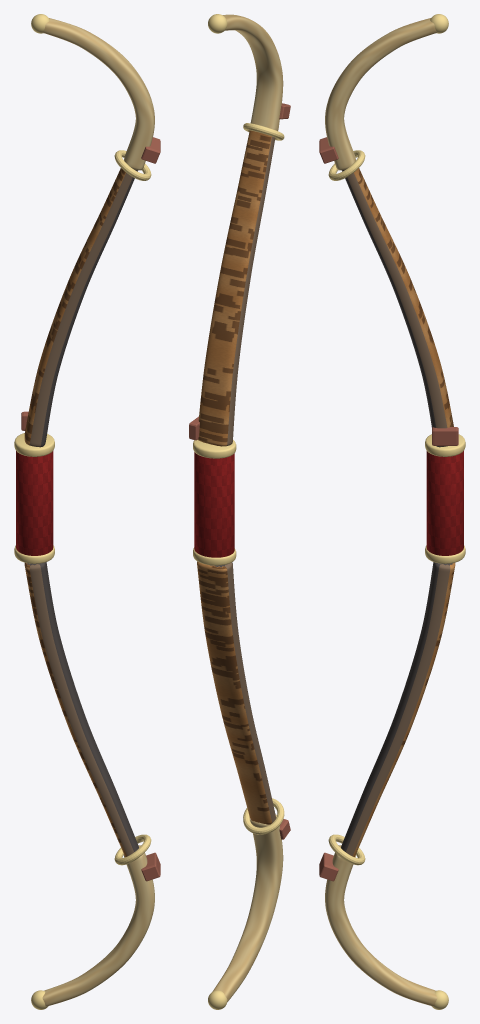
Rendered from gakgung.glb.
3 renders of one model, left to right at view 1: azimuth 90°, elevation 25°; view 2: azimuth 150°, elevation 25°; view 3: azimuth 270°, elevation 25°, orthographic.
Parts seen in each view (by area): view 1: arae-jang, wit-jang, jumtong, goja-top, goja-bottom, Cylinder.001, Torus.001, Torus, dogoji-bottom, Cylinder; view 2: wit-jang, arae-jang, goja-bottom, jumtong, goja-top, Cylinder.001, Torus.001, Cylinder, Torus, yangnyang-top, yangnyang-bottom; view 3: arae-jang, wit-jang, jumtong, goja-top, goja-bottom, Cylinder.001, Cube, Torus.001, Torus, dogoji-bottom, Cylinder.
Part boxes in pixels (left/top/right/bottom): arae-jang: left=24, top=562, right=138, bottom=856; wit-jang: left=24, top=168, right=137, bottom=447; jumtong: left=16, top=451, right=53, bottom=555; goja-top: left=42, top=18, right=154, bottom=170; goja-bottom: left=42, top=845, right=154, bottom=1006; Cylinder.001: left=14, top=433, right=54, bottom=456; Torus.001: left=114, top=834, right=151, bottom=865; Torus: left=114, top=150, right=151, bottom=180; dogoji-bottom: left=141, top=852, right=160, bottom=881; Cylinder: left=14, top=545, right=54, bottom=563; wit-jang: left=198, top=130, right=275, bottom=446; arae-jang: left=197, top=561, right=275, bottom=824; goja-bottom: left=212, top=814, right=283, bottom=1001; jumtong: left=194, top=452, right=234, bottom=557; goja-top: left=223, top=14, right=283, bottom=130; Cylinder.001: left=193, top=440, right=236, bottom=458; Torus.001: left=243, top=798, right=284, bottom=834; Cylinder: left=193, top=547, right=236, bottom=565; Torus: left=243, top=123, right=284, bottom=140; yangnyang-top: left=208, top=14, right=227, bottom=33; yangnyang-bottom: left=208, top=990, right=227, bottom=1009; arae-jang: left=341, top=562, right=455, bottom=856; wit-jang: left=342, top=168, right=453, bottom=447; jumtong: left=426, top=451, right=463, bottom=555; goja-top: left=325, top=18, right=437, bottom=170; goja-bottom: left=325, top=845, right=437, bottom=1006; Cylinder.001: left=425, top=434, right=465, bottom=456; Cube: left=432, top=427, right=458, bottom=445; Torus.001: left=328, top=834, right=365, bottom=865; Torus: left=328, top=150, right=365, bottom=180; dogoji-bottom: left=319, top=852, right=338, bottom=881; Cylinder: left=425, top=545, right=465, bottom=563.
Size of the model in its own units: 0.0497 by 1.23 by 0.1633.
Materials: 7 (3 with a texture image).
